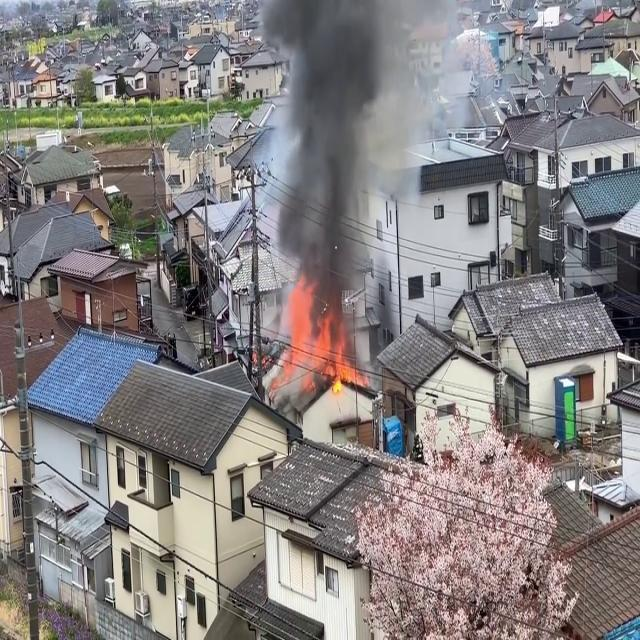Fire: (268, 282, 364, 392)
Smoke: (264, 0, 407, 324)
